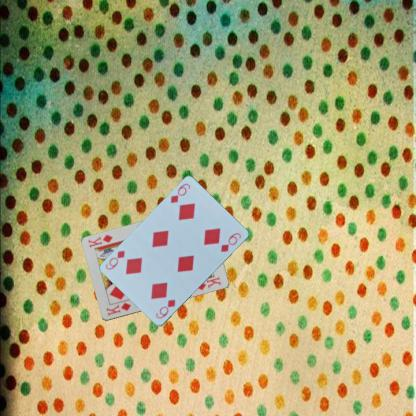6d: (153, 297, 177, 320), (168, 181, 191, 204)
Kd: (104, 300, 132, 317)
